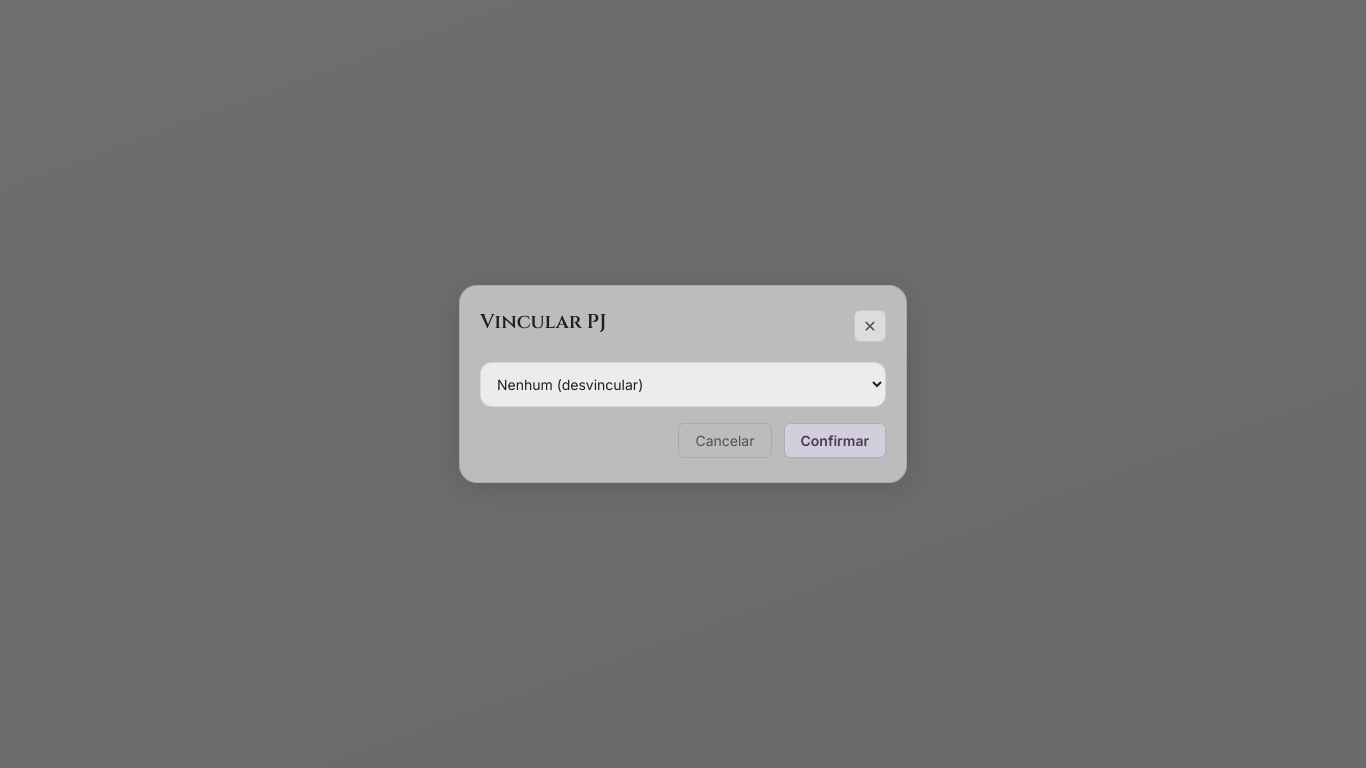
Test: SelectCharacterModal › mostra a falha do vínculo e não fecha como se tivesse dado certo
Select "Aelarion (Mago 3)" in the dropdown at (683, 384), box 480,362 -> 886,407
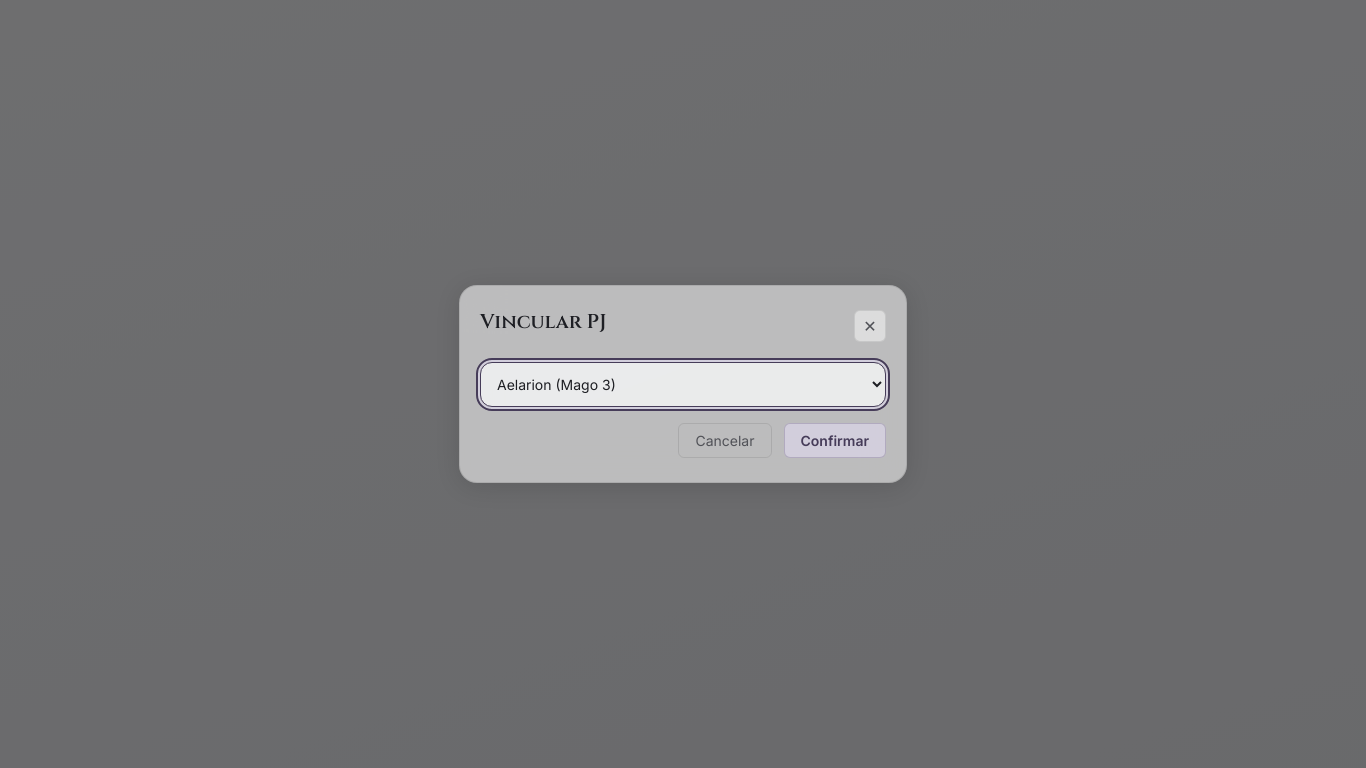
Click the button "Confirmar" at (835, 440), box 784,423 -> 886,458
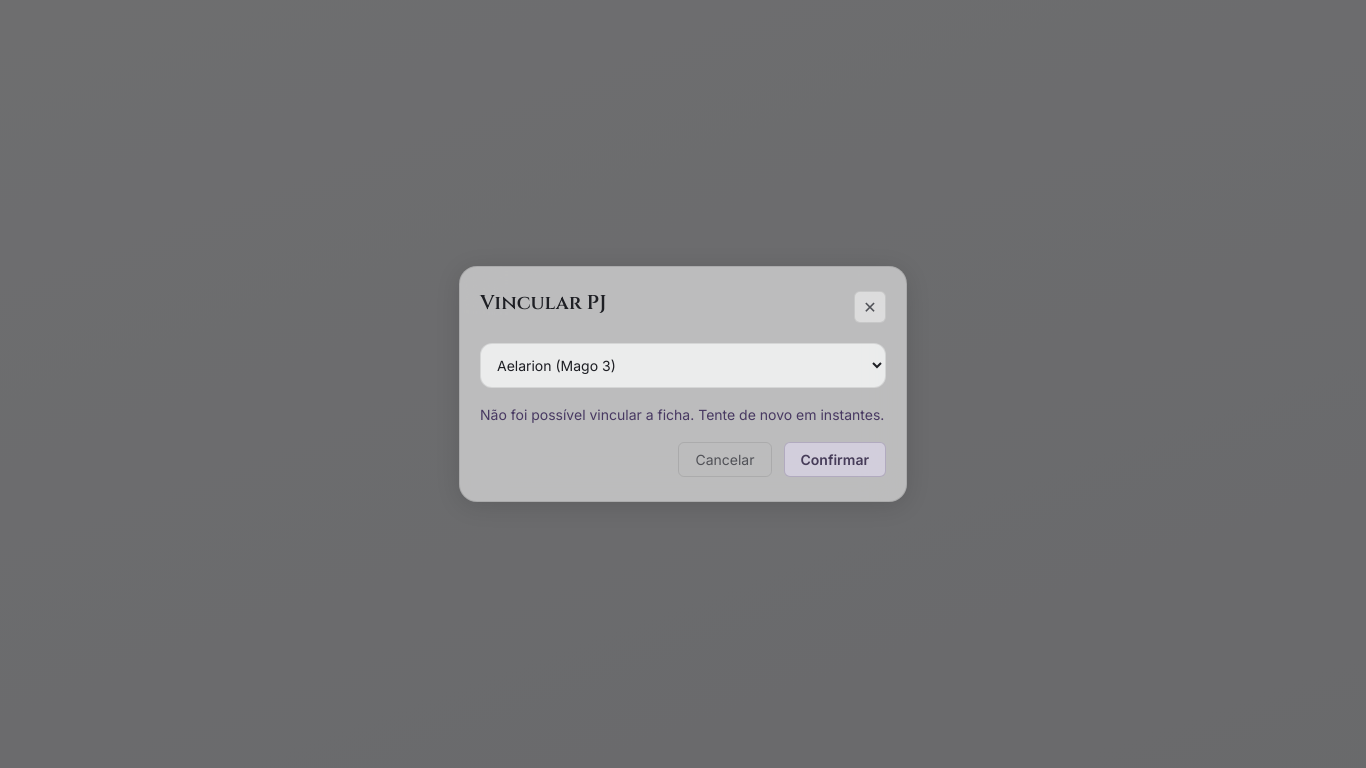
Expected: the button "Confirmar" is enabled, 784,442 -> 886,477
Expected: the message shows "Não foi possível vincular a ficha", 480,406 -> 884,423
